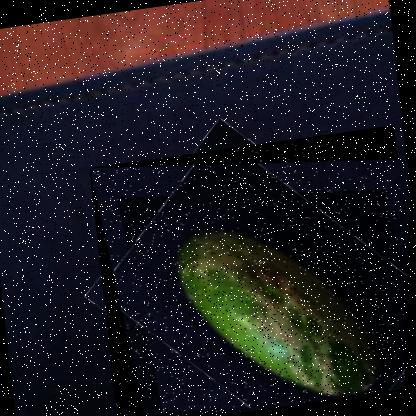orange_rotten: (84, 124, 412, 415)
